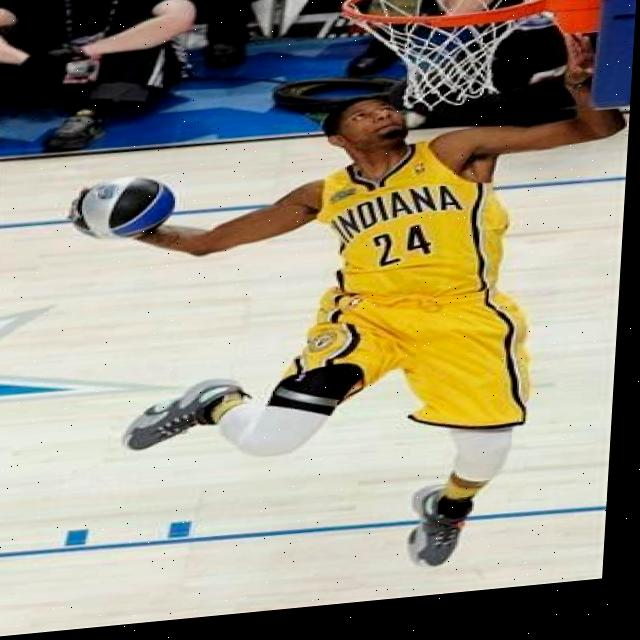basketball: (69, 175, 174, 244)
hoop: (336, 0, 550, 118)
